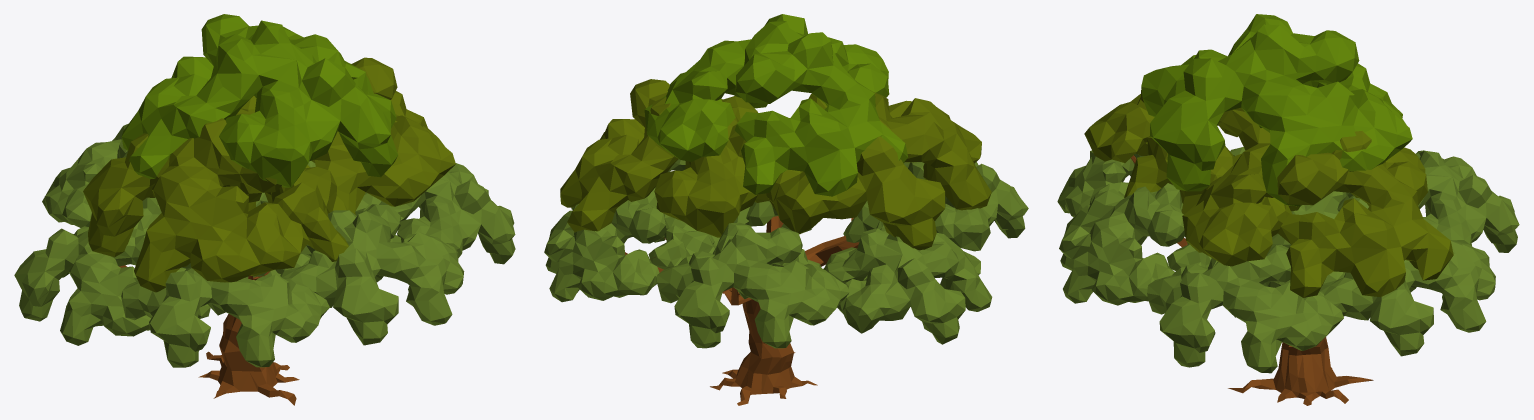
File: Weeping Fig2.fbx
3 renders of one model, left to right at view 1: azimuth 30°, elevation 25°; view 2: azimuth 150°, elevation 25°; view 3: azimuth 270°, elevation 25°, orthographic. The views are drawn at different scales.
Parts seen in each view (by area): view 1: Weep Fig2; view 2: Weep Fig2; view 3: Weep Fig2.
Boxes of the visible parts, x1=… form: Weep Fig2: x1=14, y1=14, x2=515, y2=405; Weep Fig2: x1=544, y1=14, x2=1028, y2=405; Weep Fig2: x1=1057, y1=14, x2=1519, y2=405.
Size of the model in its own units: 2466 by 1969 by 2285.
Materials: 1 (1 with a texture image).
